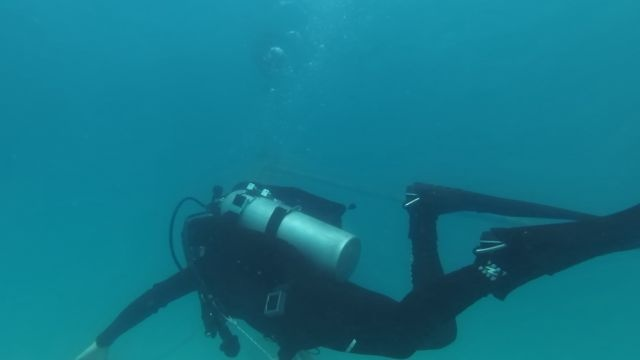Diver: (67, 157, 638, 359)
Hand: (73, 323, 114, 358)
